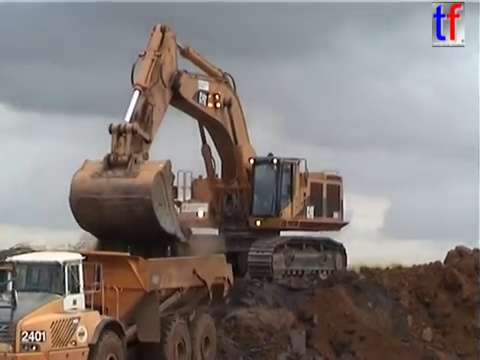excavator: (65, 20, 353, 291)
truck: (1, 244, 236, 360)
